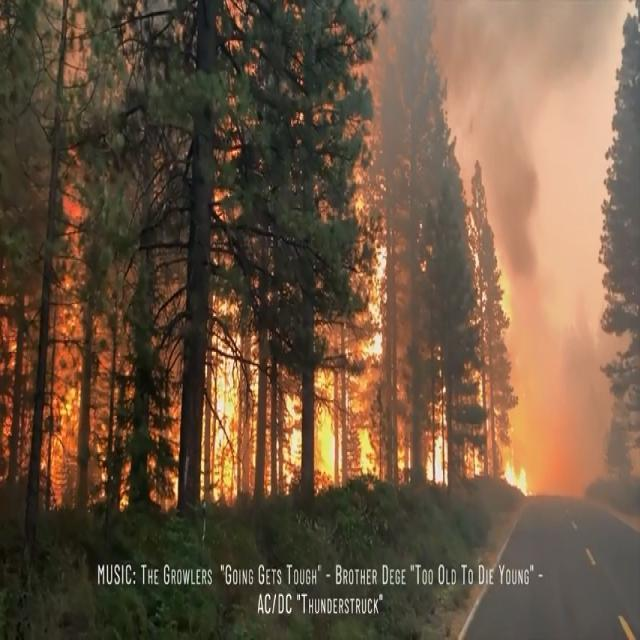Fire: (198, 292, 526, 496)
